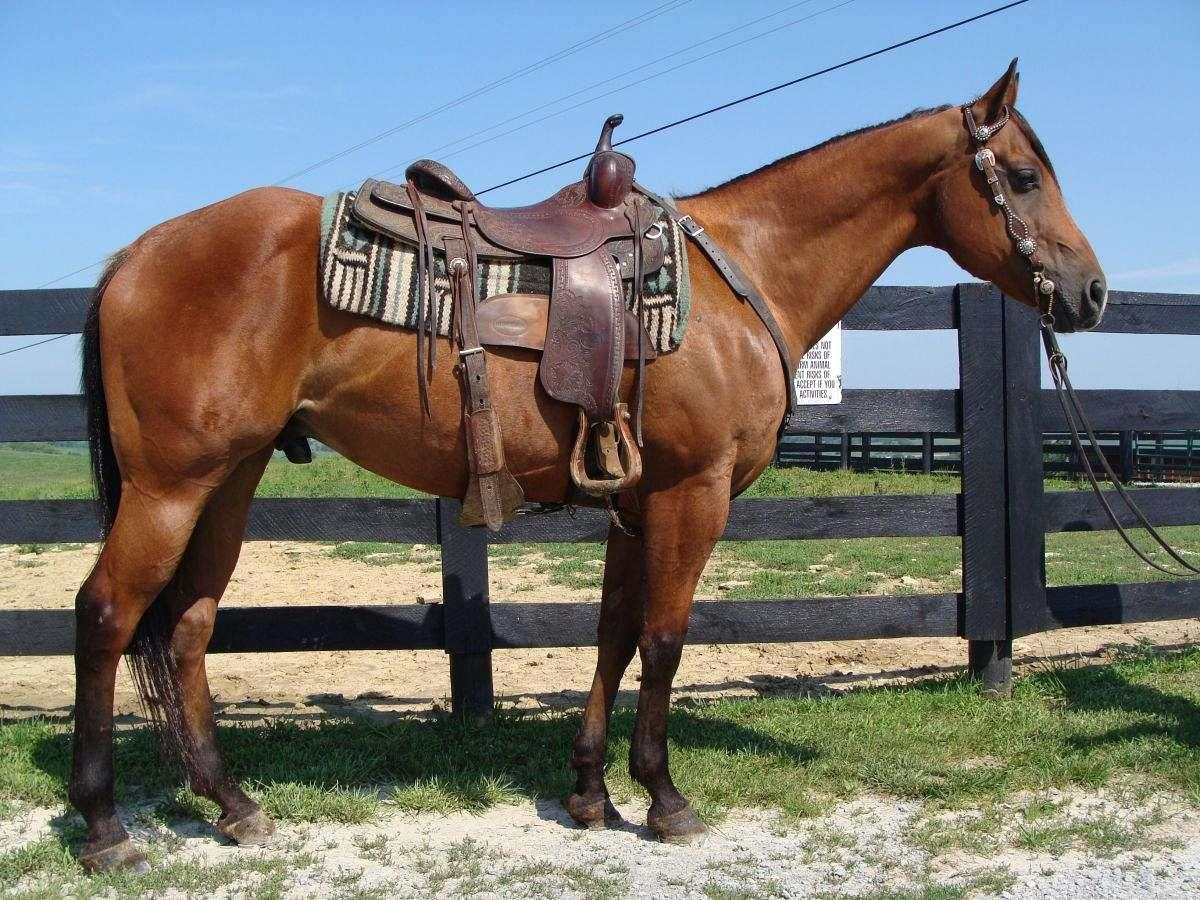horse: (57, 45, 1116, 878)
